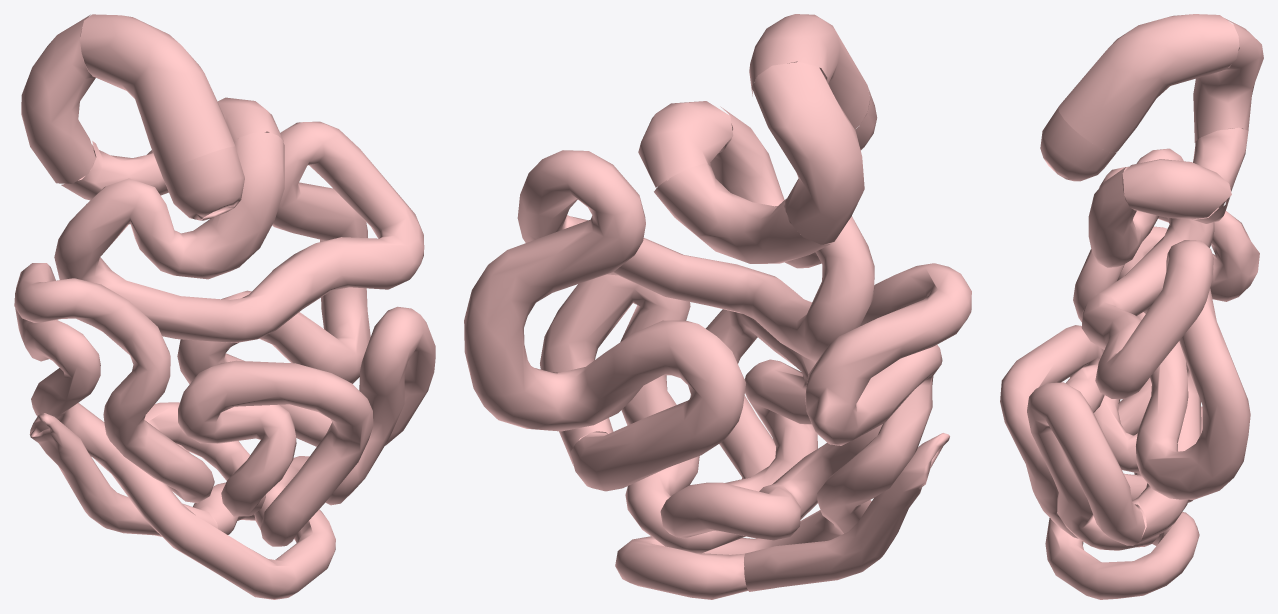
Rendered from vh_f_small_intestine.glb.
3 renders of one model, left to right at view 1: azimuth 30°, elevation 25°; view 2: azimuth 150°, elevation 25°; view 3: azimuth 270°, elevation 25°, orthographic. The views are drawn at different scales.
Visible parts, largest first — view 1: VH_F_ileum, VH_F_jejenum, VH_F_duodenum_superior, VH_F_duodenum_descending, VH_F_ileum_terminal, VH_F_duodenal_ampulla, VH_F_duodenum_horizontal, VH_F_duodenum_ascending; view 2: VH_F_ileum, VH_F_jejenum, VH_F_duodenum_descending, VH_F_ileum_terminal, VH_F_duodenum_horizontal, VH_F_duodenum_superior, VH_F_duodenum_ascending; view 3: VH_F_jejenum, VH_F_ileum, VH_F_duodenum_superior, VH_F_duodenum_ascending, VH_F_duodenum_descending, VH_F_duodenal_ampulla, VH_F_duodenum_horizontal.
Part boxes in pixels (box(x1,y1,x2,y2)): VH_F_ileum: box(14, 263, 435, 599); VH_F_jejenum: box(54, 121, 424, 446); VH_F_duodenum_superior: box(80, 14, 234, 174); VH_F_duodenum_descending: box(21, 14, 95, 183); VH_F_ileum_terminal: box(29, 413, 217, 536); VH_F_duodenal_ampulla: box(162, 146, 244, 220); VH_F_duodenum_horizontal: box(61, 141, 168, 200); VH_F_duodenum_ascending: box(217, 97, 283, 141); VH_F_ileum: box(540, 263, 971, 599); VH_F_jejenum: box(464, 106, 874, 491); VH_F_duodenum_descending: box(751, 62, 864, 244); VH_F_ileum_terminal: box(744, 433, 949, 591); VH_F_duodenum_horizontal: box(654, 163, 830, 263); VH_F_duodenum_superior: box(749, 14, 869, 129); VH_F_duodenum_ascending: box(638, 101, 733, 188); VH_F_jejenum: box(1081, 148, 1250, 541); VH_F_ileum: box(1000, 166, 1259, 599); VH_F_duodenum_superior: box(1058, 14, 1239, 152); VH_F_duodenum_ascending: box(1122, 159, 1231, 219); VH_F_duodenum_descending: box(1193, 18, 1263, 142); VH_F_duodenal_ampulla: box(1040, 107, 1116, 181); VH_F_duodenum_horizontal: box(1191, 127, 1248, 223).
Bounding box in the file's own units: 0.1617 × 0.217 × 0.1003.
